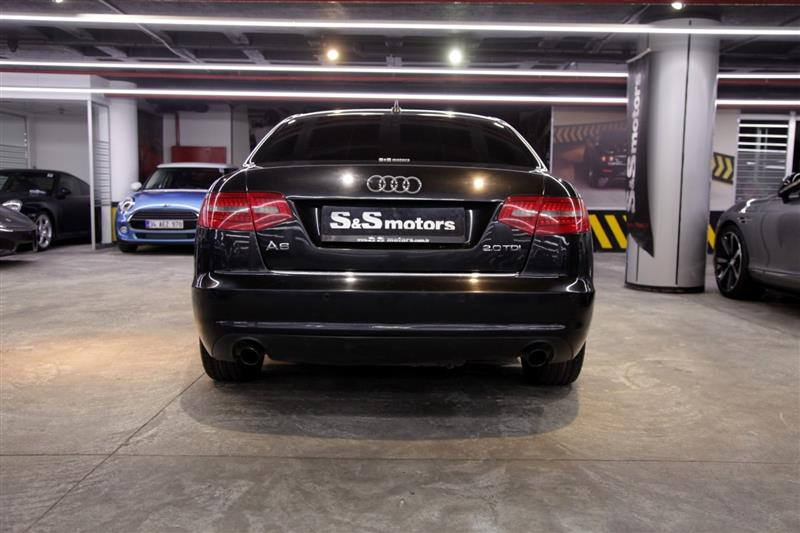audi: (356, 169, 428, 194)
